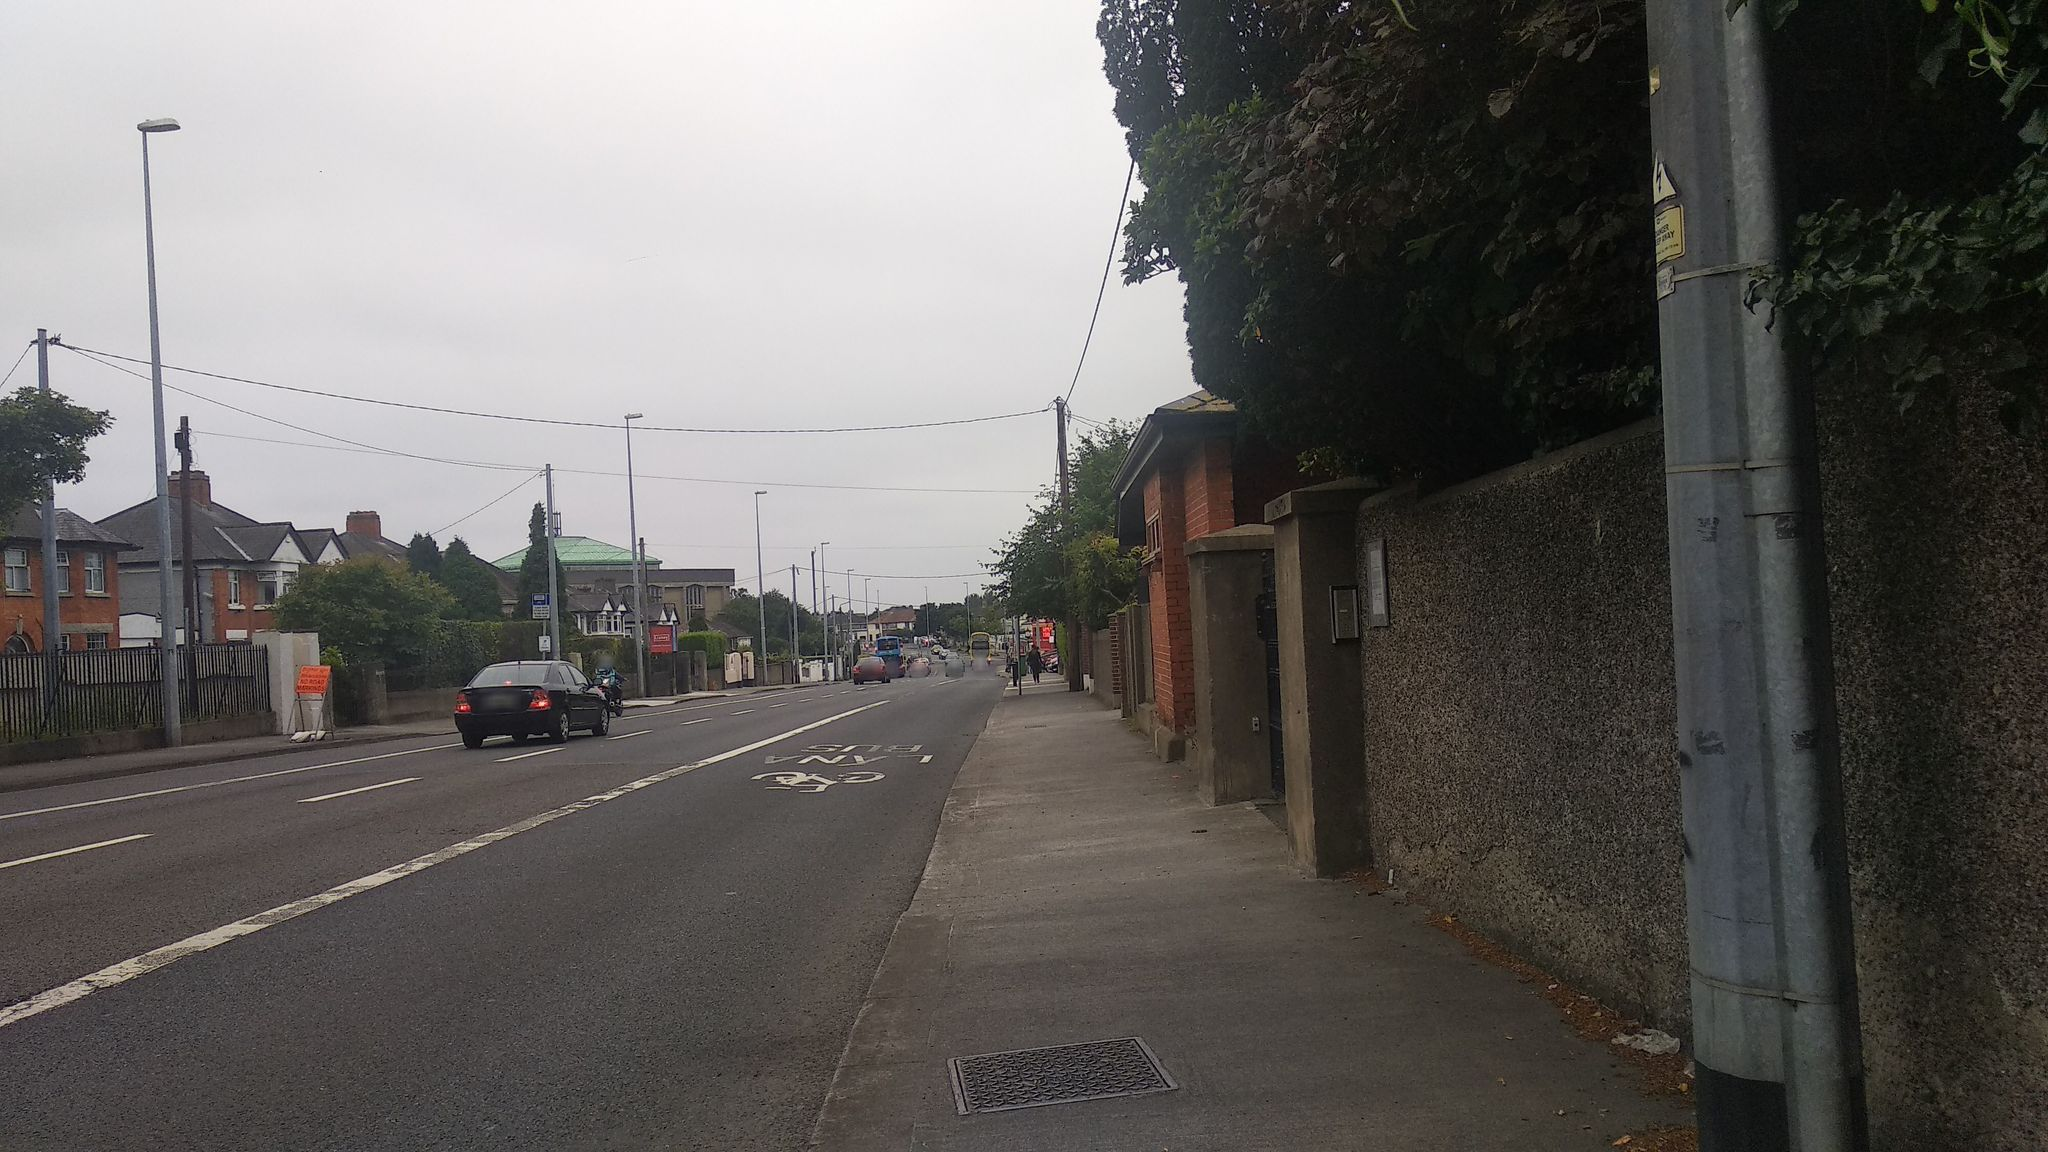property sign: (641, 602, 691, 657)
